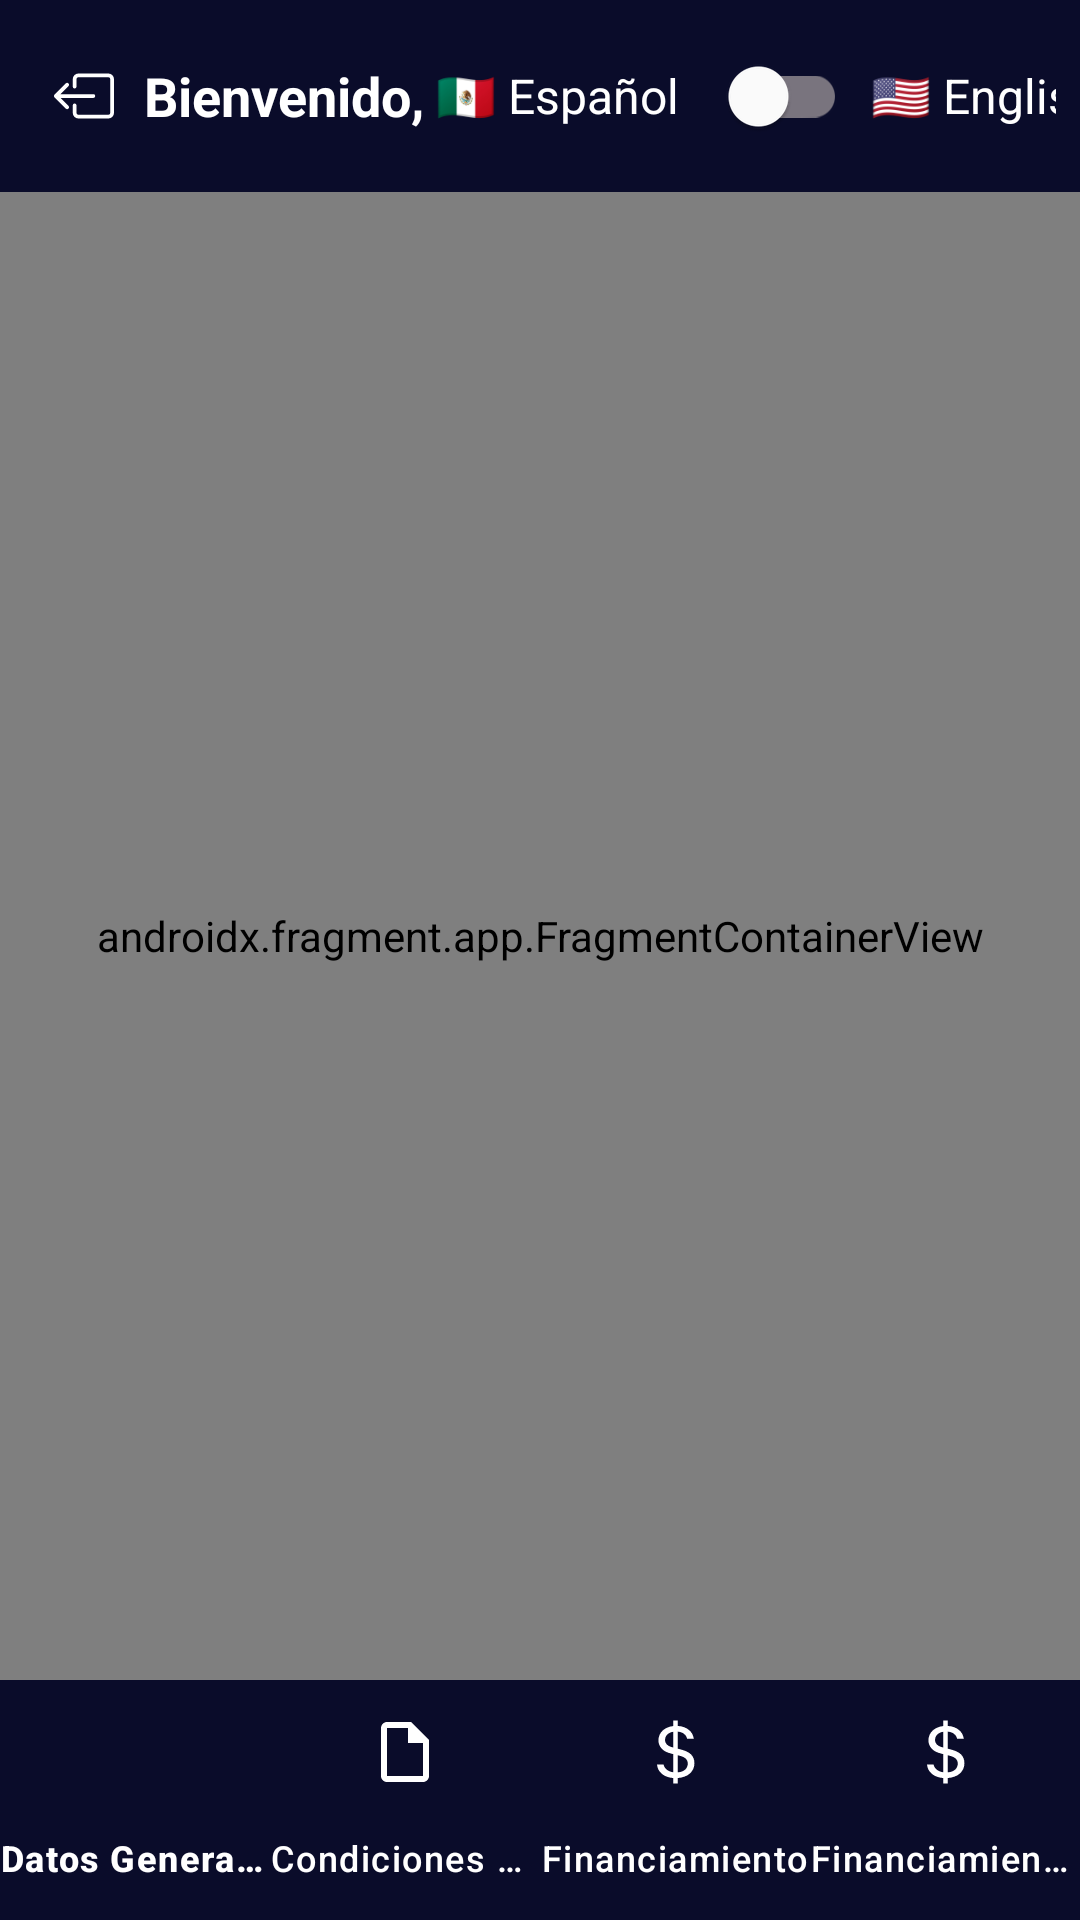

Icons on this 1080*1920 Android screen, each with the point to tap as [x,y]:
exit: [84,96]
